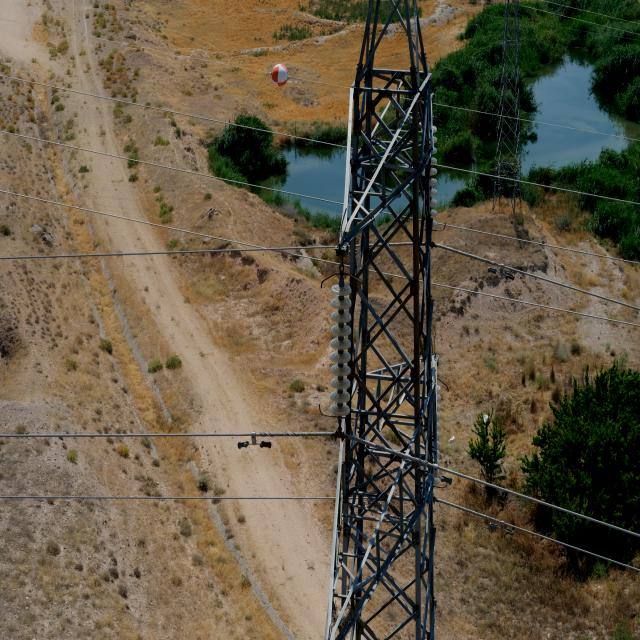voltage_line: (328, 13, 439, 640)
